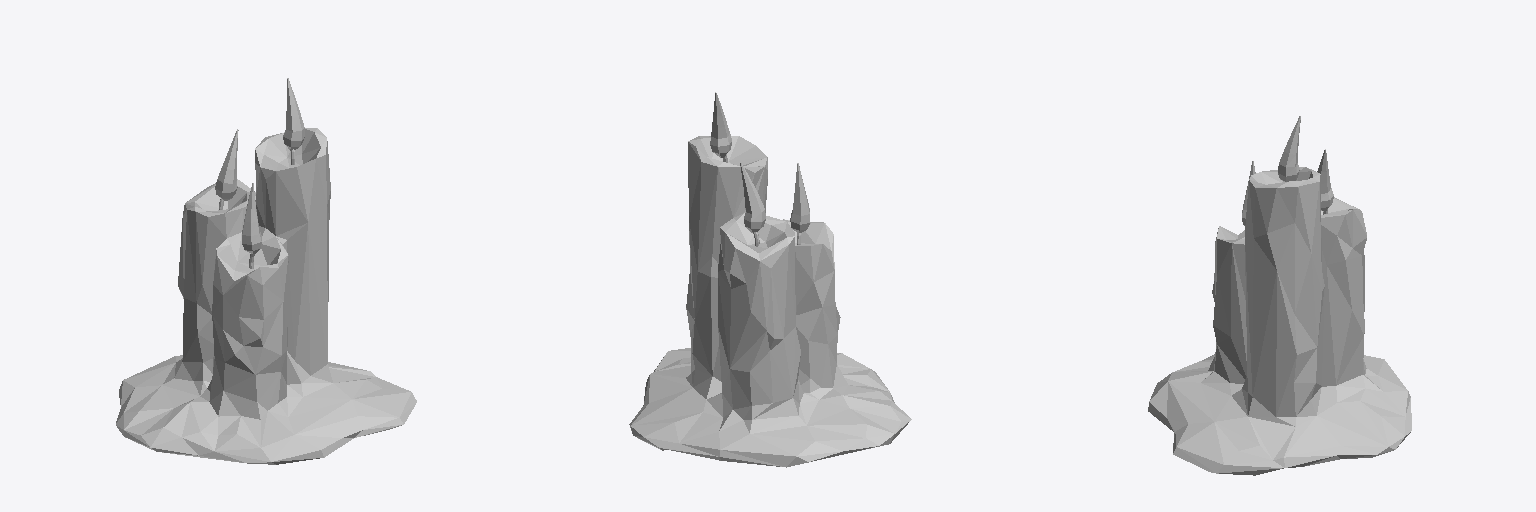
Rendered from candle11.obj.
The picture shows the model from 3 angles: view 1: azimuth 30°, elevation 25°; view 2: azimuth 150°, elevation 25°; view 3: azimuth 270°, elevation 25°; orthographic projection.
Visible parts, largest first — view 1: Object003, candleflame002, candleflame003, candleflame001; view 2: Object003, candleflame002, candleflame003, candleflame001; view 3: Object003, candleflame003, candleflame002.
Part boxes in pixels (bbox=[...]): Object003: bbox=[116, 128, 416, 464]; candleflame002: bbox=[215, 129, 238, 200]; candleflame003: bbox=[283, 78, 304, 149]; candleflame001: bbox=[242, 183, 261, 253]; Object003: bbox=[629, 136, 911, 467]; candleflame002: bbox=[740, 163, 765, 232]; candleflame003: bbox=[710, 92, 731, 157]; candleflame001: bbox=[790, 163, 809, 232]; Object003: bbox=[1148, 167, 1411, 475]; candleflame003: bbox=[1278, 116, 1300, 181]; candleflame002: bbox=[1317, 149, 1333, 211].
Size of the model in its own units: 1.05 by 1.24 by 0.9231.